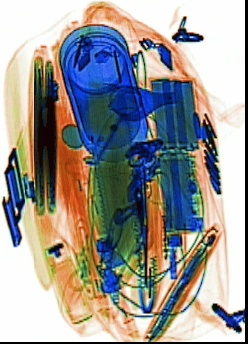powerbank: (148, 76, 206, 236)
